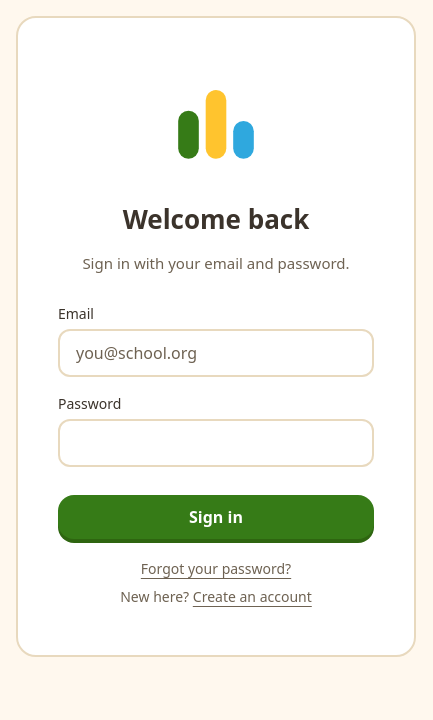
Test: EmailSignInPage › links to verification when the account is not confirmed
Expected: the button "Sign in" is shown, [58,495,374,539]
In the field labelled "Email": (216,353) [58,329,374,377], type "t@e.com"
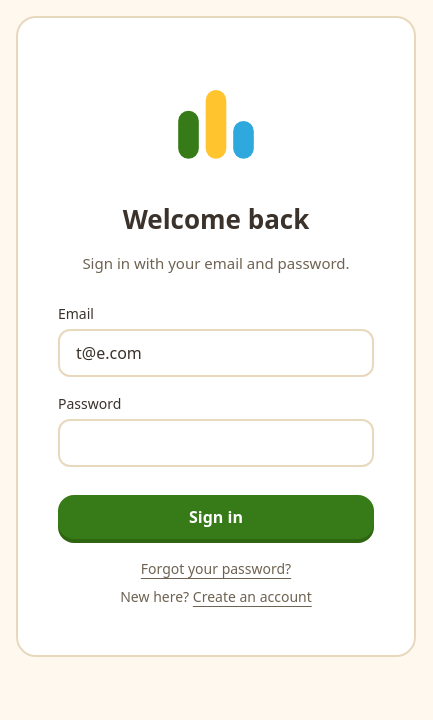
In the password field labelled "Password": (216,443) [58,419,374,467], type "s3cret"
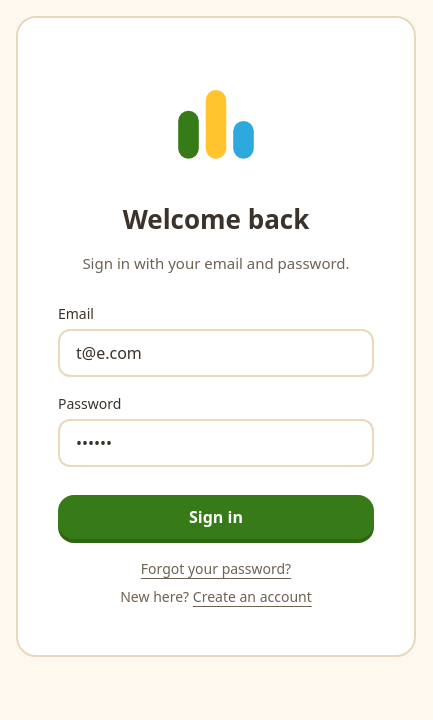
Click the button "Sign in": (216,517) [58,495,374,539]
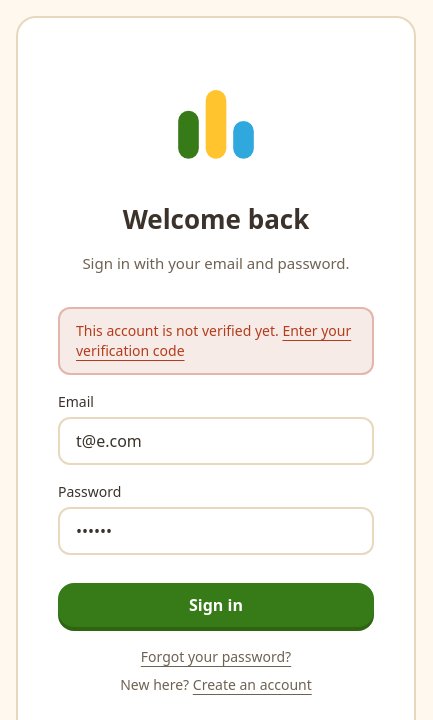
Result: the message shows "not verified yet" at [76,321,279,340]
